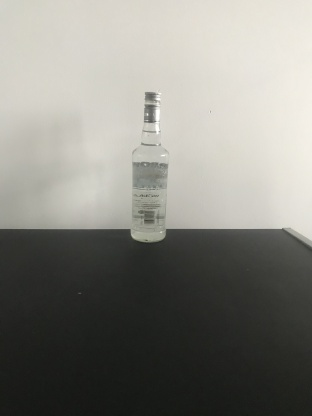nakretka: (142, 89, 161, 122)
